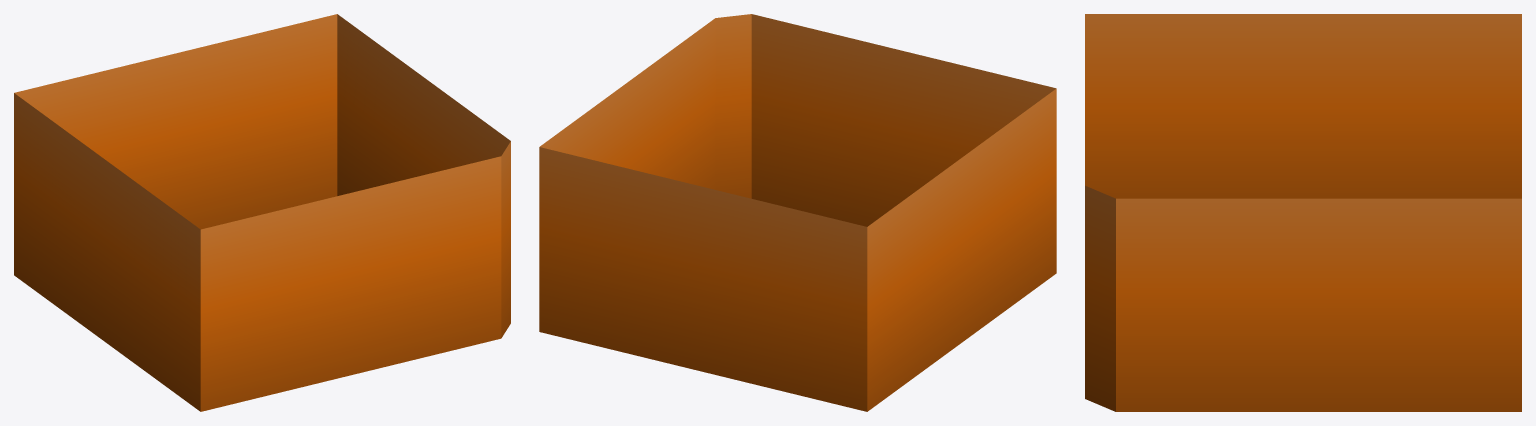
The model's file is Counter_01_Corner_C03.fbx.
3 renders of one model, left to right at view 1: azimuth 30°, elevation 25°; view 2: azimuth 150°, elevation 25°; view 3: azimuth 270°, elevation 25°, orthographic. The views are drawn at different scales.
Visible parts, largest first — view 1: Counter_01_Corner_C03; view 2: Counter_01_Corner_C03; view 3: Counter_01_Corner_C03.
Boxes of the visible parts, x1,y1,x2,y2 form: Counter_01_Corner_C03: [14, 14, 510, 411]; Counter_01_Corner_C03: [539, 14, 1056, 411]; Counter_01_Corner_C03: [1085, 14, 1521, 411].
Size of the model in its own units: 100 by 53.91 by 100.
